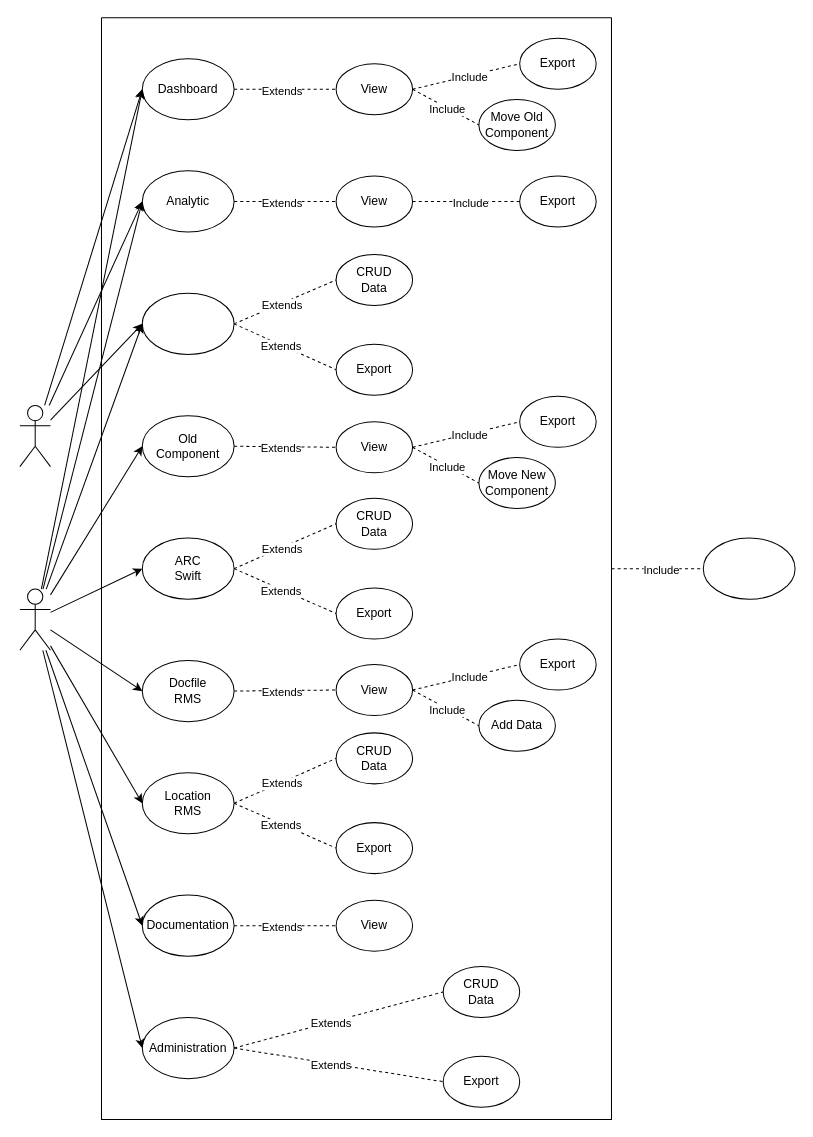
Some shapes in this 813 by 1137 pixel diagram are drawn without their labels. The shapes that lost their labels are listed below. From the top down, each one's centre as x and y in pixels, then its label:
At point 187,323: "Action".
At point 34,435: "User".
At point 748,568: "Login".
At point 34,619: "Admin".
